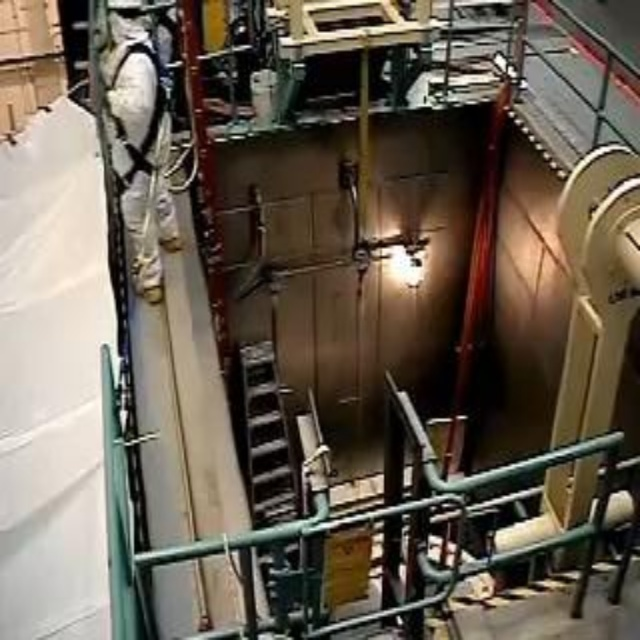Arnes_seguridad: (97, 37, 170, 189)
